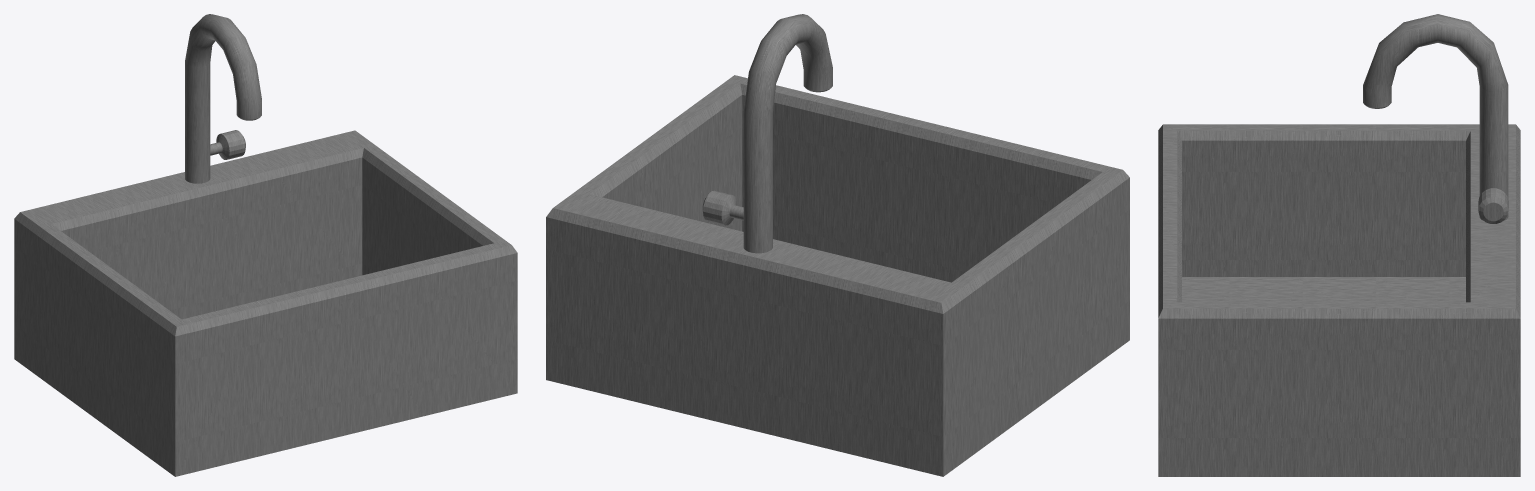
File: Kitchen sink.FBX
3 renders of one model, left to right at view 1: azimuth 30°, elevation 25°; view 2: azimuth 150°, elevation 25°; view 3: azimuth 270°, elevation 25°, orthographic. The views are drawn at different scales.
Parts seen in each view (by area): view 1: Kitchen sink; view 2: Kitchen sink; view 3: Kitchen sink.
Part boxes in pixels (x1,y1,x2,y2): Kitchen sink: [14, 14, 517, 476]; Kitchen sink: [546, 14, 1129, 476]; Kitchen sink: [1158, 14, 1520, 476].
Size of the model in its own units: 85.43 by 77.74 by 69.52.
Materials: 1 (1 with a texture image).
